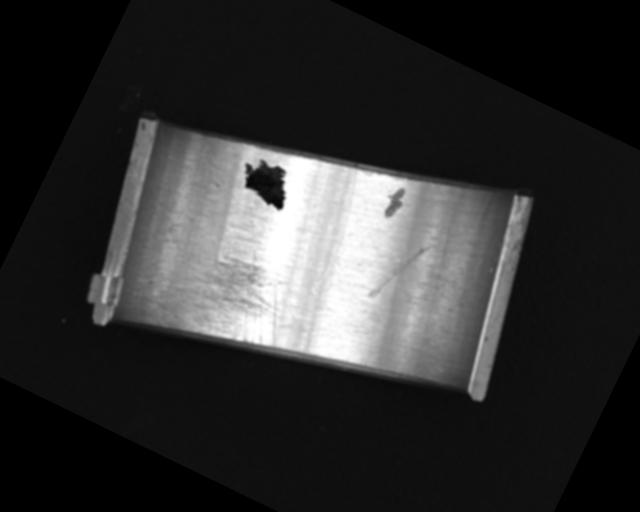blot: (232, 150, 300, 212)
bruise: (379, 182, 411, 222)
nick: (298, 170, 375, 296), (365, 227, 432, 314)
scratch: (147, 220, 310, 376)
